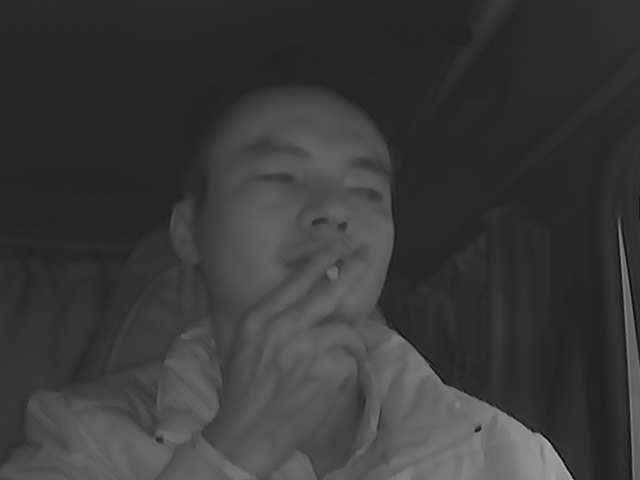hand: (246, 244, 376, 403)
